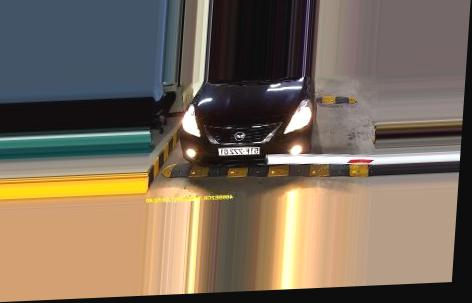License_Plate: (216, 145, 262, 158)
